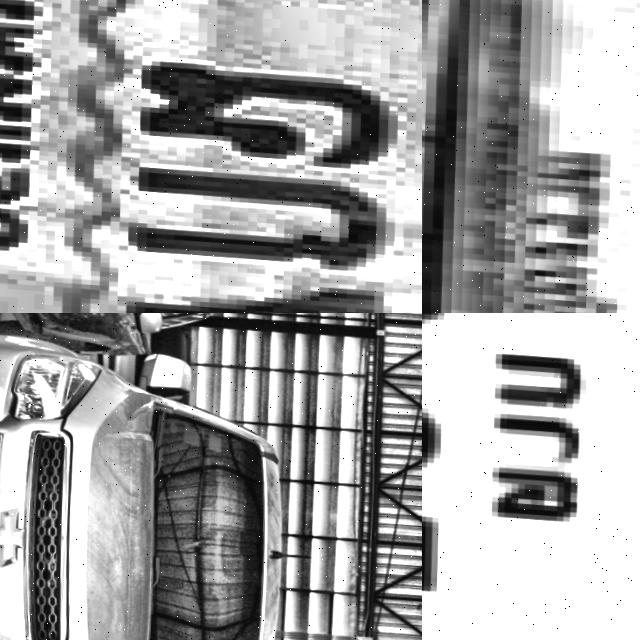license-plate: (0, 0, 422, 313), (422, 313, 640, 640), (422, 0, 640, 313)
